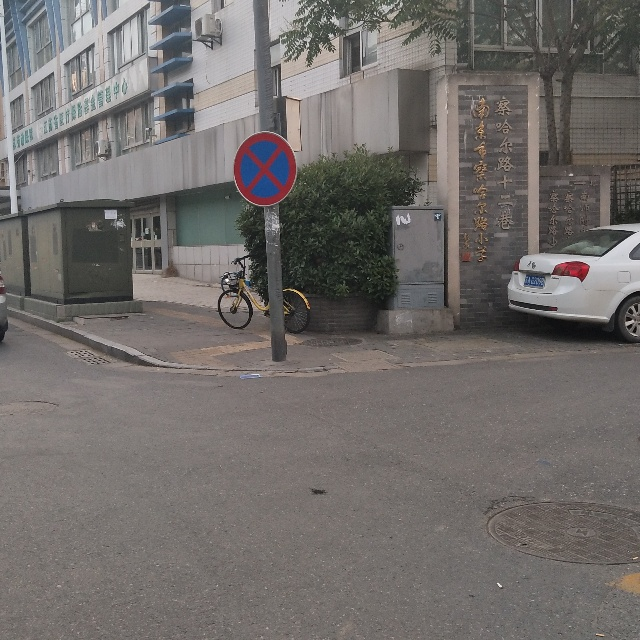stop: (234, 128, 298, 212)
